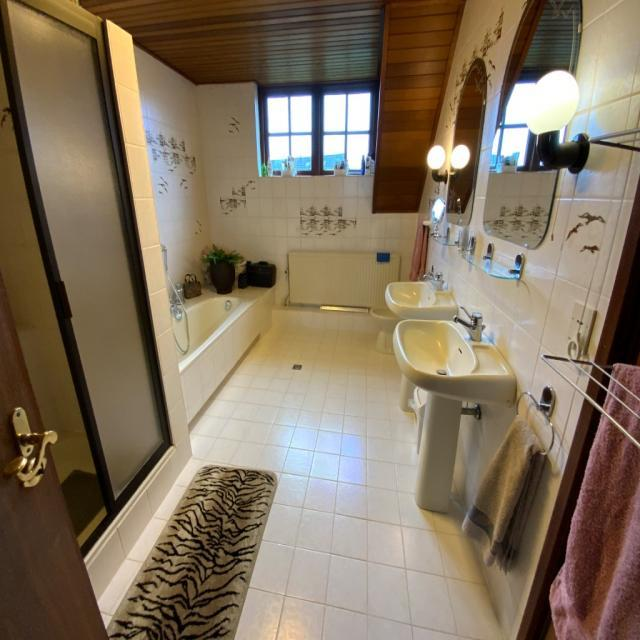bath: (164, 280, 261, 426)
douche: (0, 0, 193, 603)
toilet: (370, 304, 406, 354)
wastafel: (384, 271, 518, 517)
